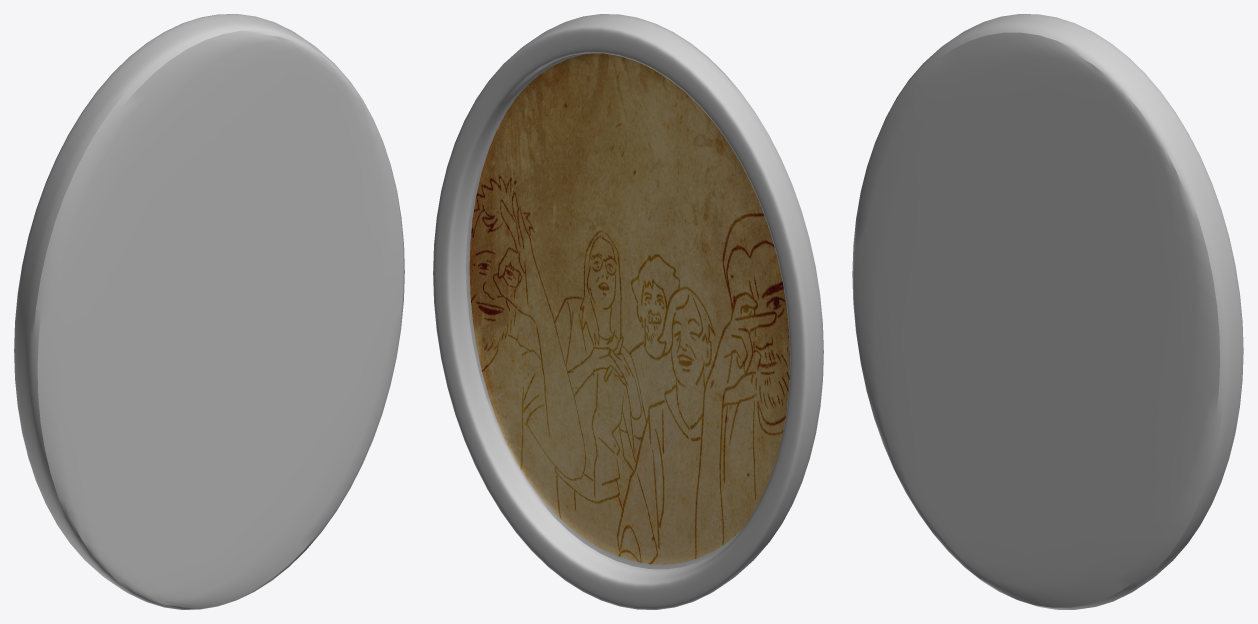
Rendered from miroir.fbx.
3 views of the same model, side by side, from view 1: azimuth 30°, elevation 25°; view 2: azimuth 150°, elevation 25°; view 3: azimuth 330°, elevation 25° (orthographic).
Parts seen in each view (by area): view 1: Plane; view 2: Plane; view 3: Plane.
Part boxes in pixels (x1,y1,x2,y2): Plane: (14, 14, 404, 609); Plane: (433, 14, 823, 609); Plane: (852, 14, 1243, 609).
Size of the model in its own units: 95.41 by 141 by 10.2.
